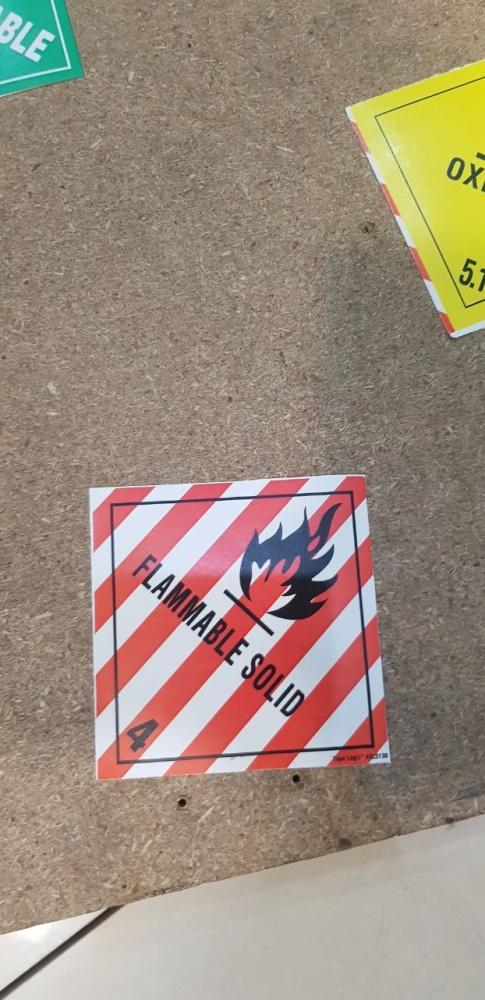flammable-solid: (91, 479, 372, 778)
oxidizer: (346, 48, 485, 345)
